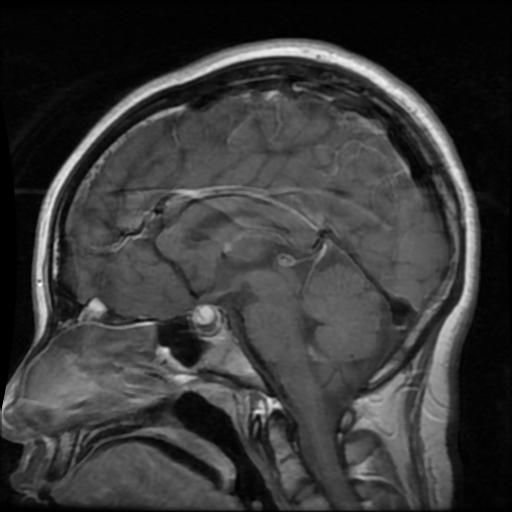Pituirity_tumour: (194, 301, 215, 323)
